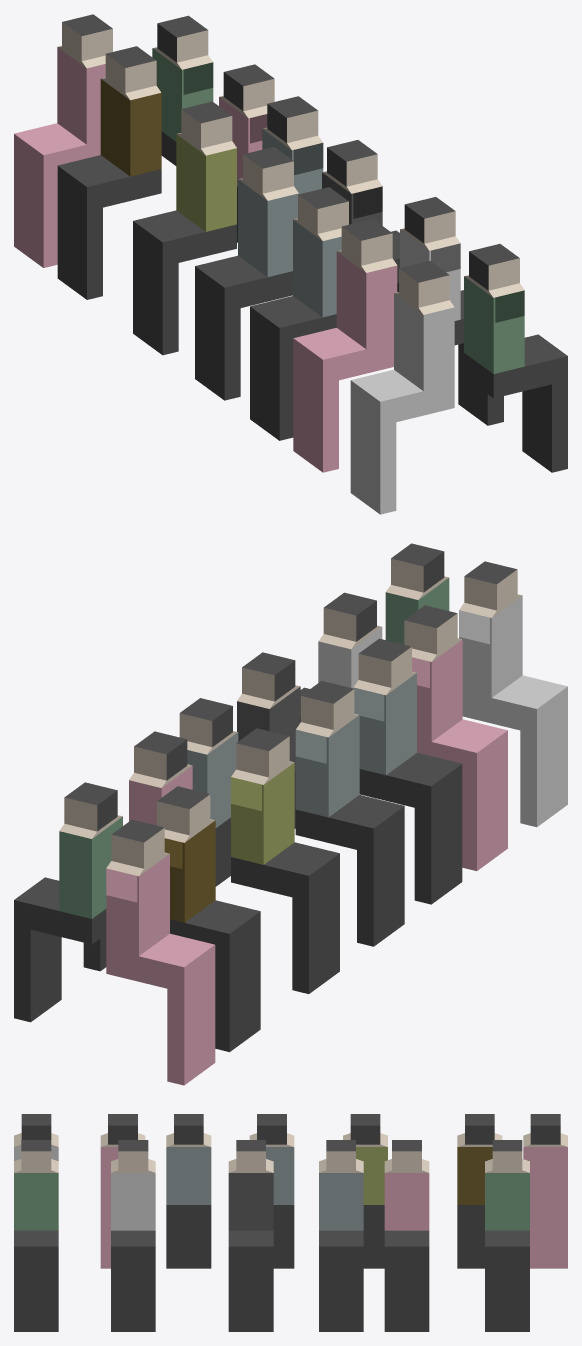
The model's file is knifeboard-people.dae.
3 views of the same model, one above another, from view 1: azimuth 30°, elevation 25°; view 2: azimuth 150°, elevation 25°; view 3: azimuth 270°, elevation 25° (orthographic). The views are drawn at different scales.
Parts seen in each view (by area): view 1: Plane_009, Plane_014, Plane_010, Plane_013, Plane_011, Plane_019, Plane_008, Plane_012, Plane_018, Plane_015, Plane_016, Plane_017 (+1 smaller); view 2: Plane_008, Plane_011, Plane_010, Plane_014, Plane_012, Plane_015, Plane_009, Plane_013, Plane_016, Plane_017, Plane_007, Plane_018 (+1 smaller); view 3: Plane_007, Plane_017, Plane_015, Plane_018, Plane_019, Plane_016, Plane_012, Plane_008, Plane_009, Plane_010, Plane_011, Plane_013 (+1 smaller).
Boxes of the visible parts, x1=… form: Plane_009: x1=57, y1=46, x2=161, y2=299; Plane_014: x1=350, y1=261, x2=454, y2=514; Plane_010: x1=133, y1=101, x2=236, y2=355; Plane_013: x1=293, y1=219, x2=397, y2=472; Plane_011: x1=195, y1=147, x2=298, y2=400; Plane_019: x1=464, y1=244, x2=567, y2=472; Plane_008: x1=14, y1=14, x2=112, y2=267; Plane_012: x1=250, y1=187, x2=348, y2=440; Plane_018: x1=400, y1=197, x2=503, y2=425; Plane_015: x1=152, y1=15, x2=237, y2=242; Plane_016: x1=262, y1=96, x2=323, y2=194; Plane_017: x1=322, y1=140, x2=399, y2=292; Plane_008: x1=106, y1=819, x2=215, y2=1085; Plane_011: x1=295, y1=681, x2=404, y2=946; Plane_010: x1=231, y1=728, x2=339, y2=993; Plane_014: x1=459, y1=561, x2=567, y2=827; Plane_012: x1=353, y1=638, x2=462, y2=904; Plane_015: x1=14, y1=782, x2=122, y2=1022; Plane_009: x1=157, y1=786, x2=260, y2=1052; Plane_013: x1=404, y1=605, x2=507, y2=870; Plane_016: x1=179, y1=698, x2=238, y2=853; Plane_017: x1=215, y1=652, x2=300, y2=886; Plane_007: x1=83, y1=731, x2=192, y2=971; Plane_018: x1=294, y1=592, x2=382, y2=828; Plane_007: x1=384, y1=1140, x2=429, y2=1331; Plane_017: x1=228, y1=1140, x2=273, y2=1331; Plane_015: x1=485, y1=1140, x2=529, y2=1331; Plane_018: x1=111, y1=1140, x2=155, y2=1331; Plane_019: x1=14, y1=1140, x2=58, y2=1331; Plane_016: x1=319, y1=1140, x2=363, y2=1331; Plane_012: x1=166, y1=1114, x2=211, y2=1268; Plane_008: x1=523, y1=1114, x2=567, y2=1268; Plane_009: x1=457, y1=1114, x2=502, y2=1268; Plane_010: x1=343, y1=1114, x2=387, y2=1268; Plane_011: x1=249, y1=1114, x2=294, y2=1268; Plane_013: x1=100, y1=1114, x2=145, y2=1268.
Size of the model in its own units: 0.6849 by 2.32 by 0.7594.
